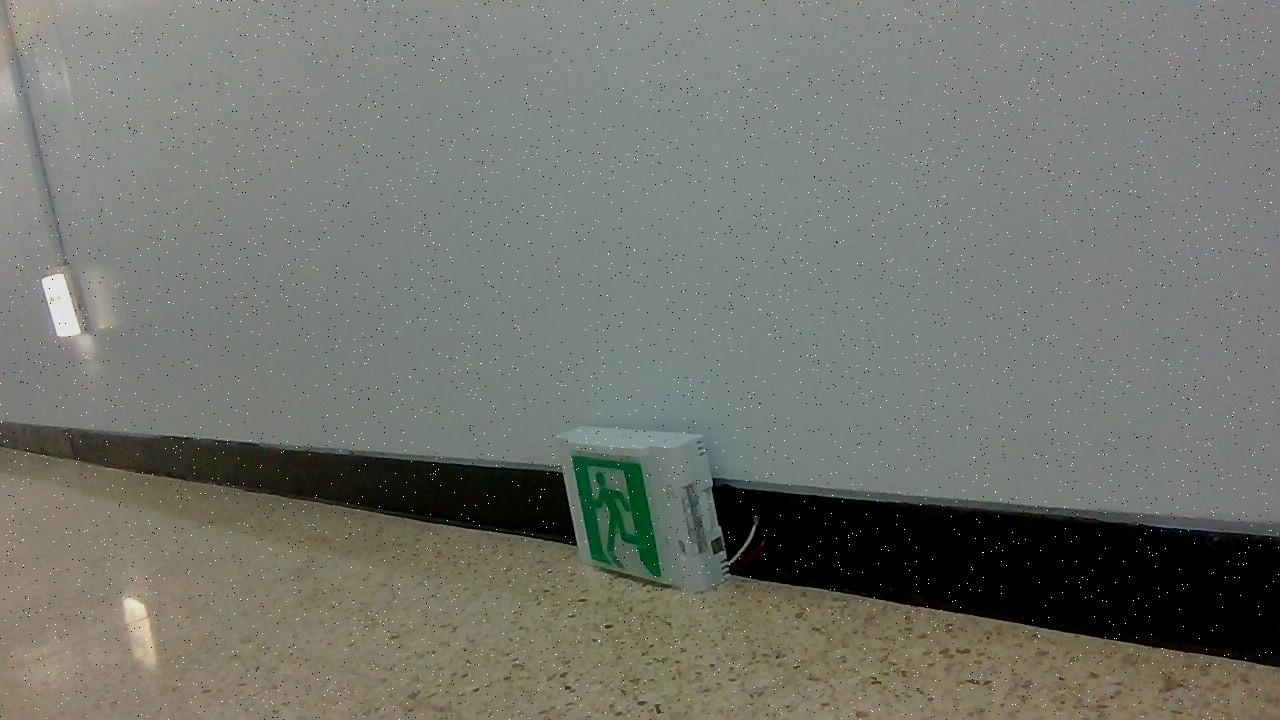emergency_exit: (554, 425, 731, 592)
